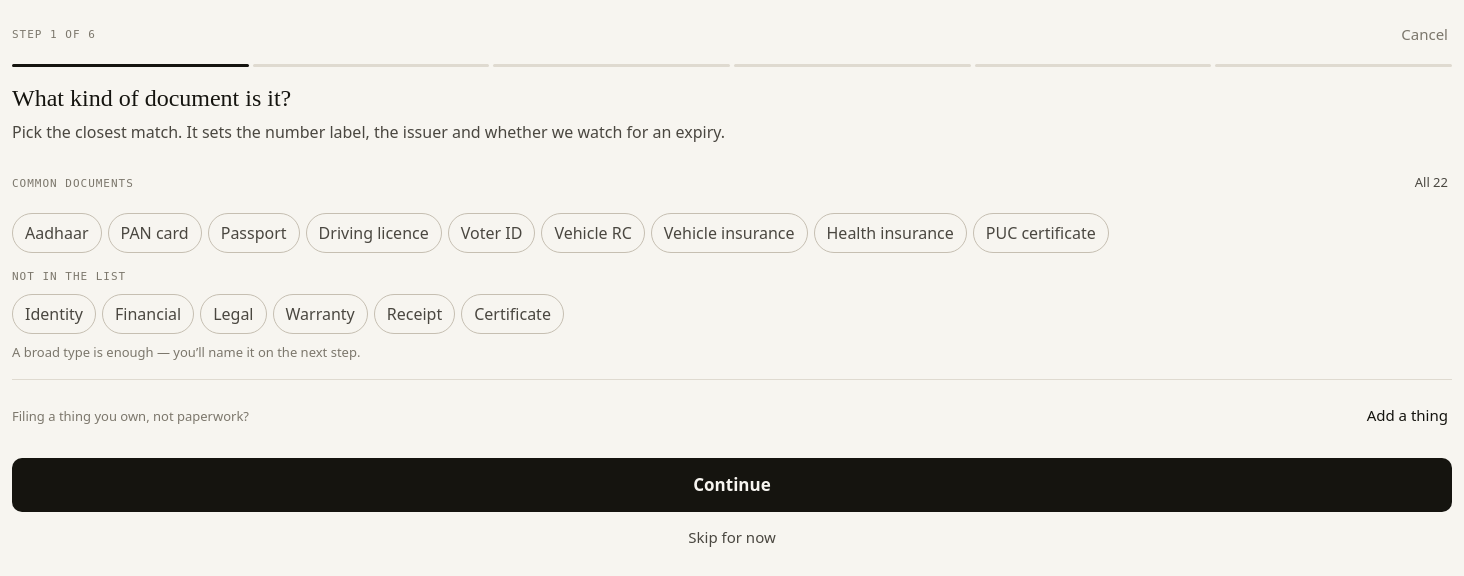
Test case: stepping back › draws no Back on the first step, and Back on every step after it
The width and height of the screenshot is (1464, 576).
Expected: the button "Back" is not shown
Step 1. Click the button "Skip for now" → (732, 538), box [12,516,1452,560]
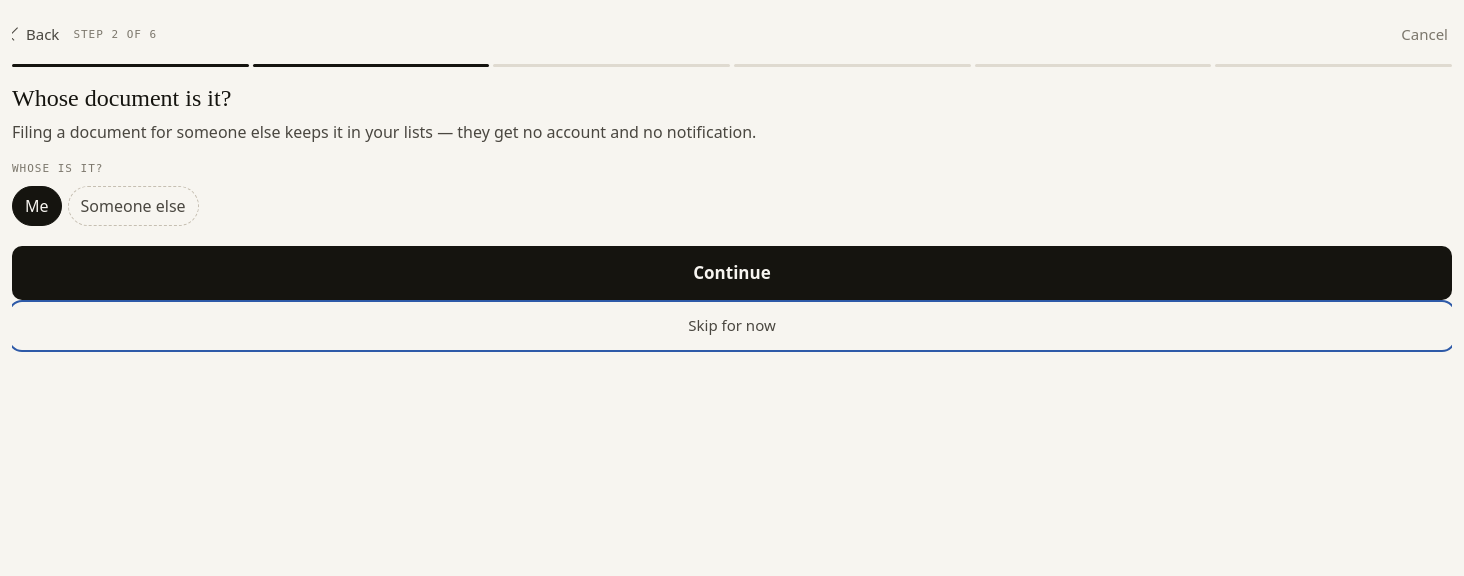
Now the button "Back" is shown, box [12,12,63,56]
